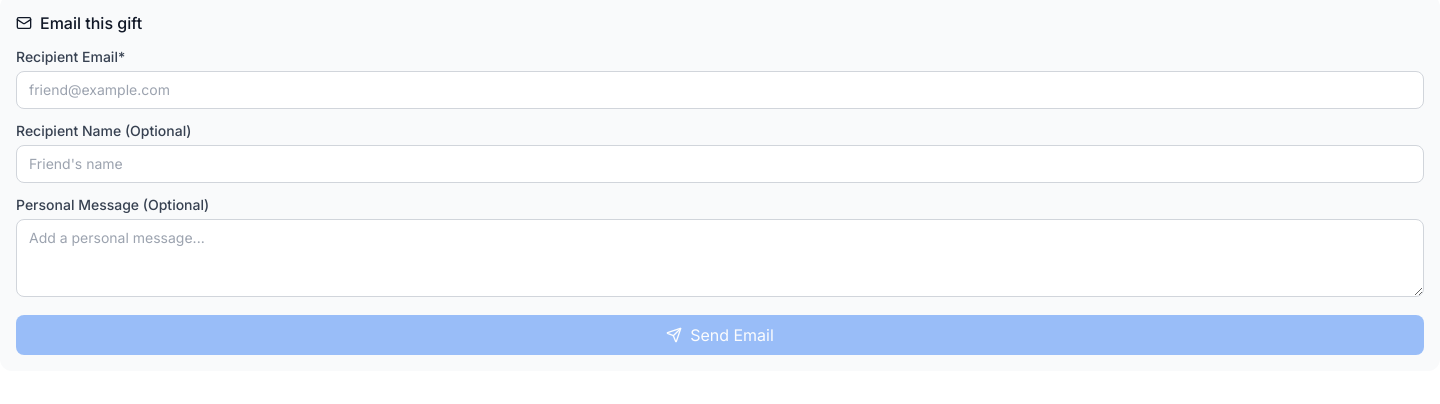
EmailShareForm Component › handles API errors
Fill the form with valid data
Type "test@example.com" into the field labelled "Recipient Email*" at (720, 90), box [16,71,1424,109]
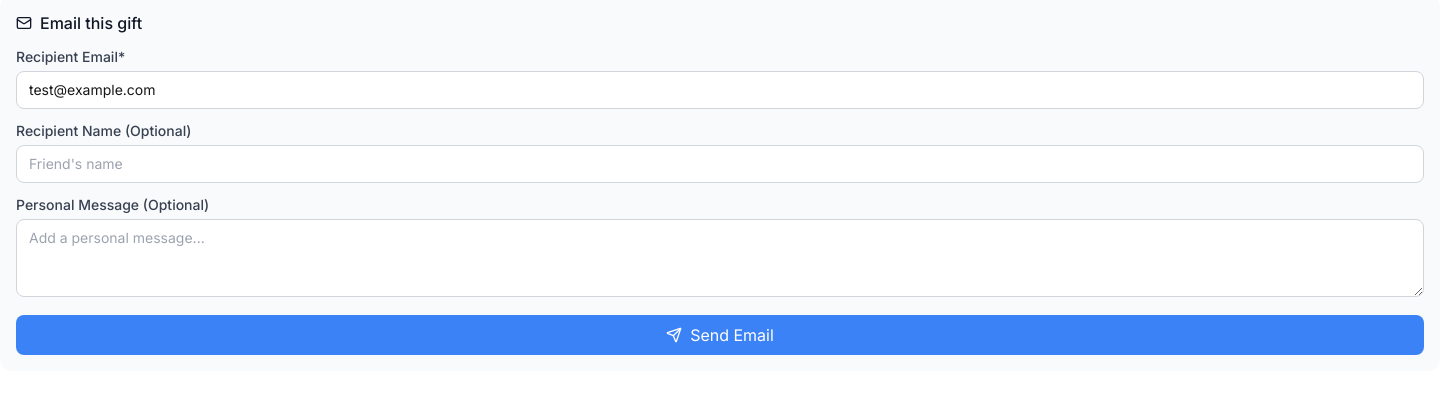
Submit the form
Click the button "Send Email" at (720, 335), box [16,315,1424,355]
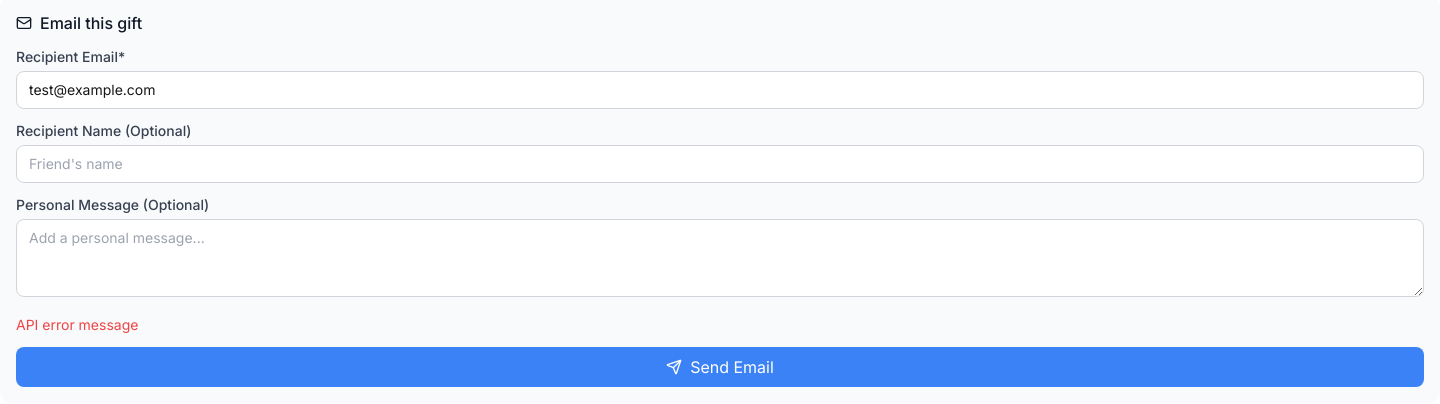
Expected: the text "API error message" is shown, [16,316,138,333]
